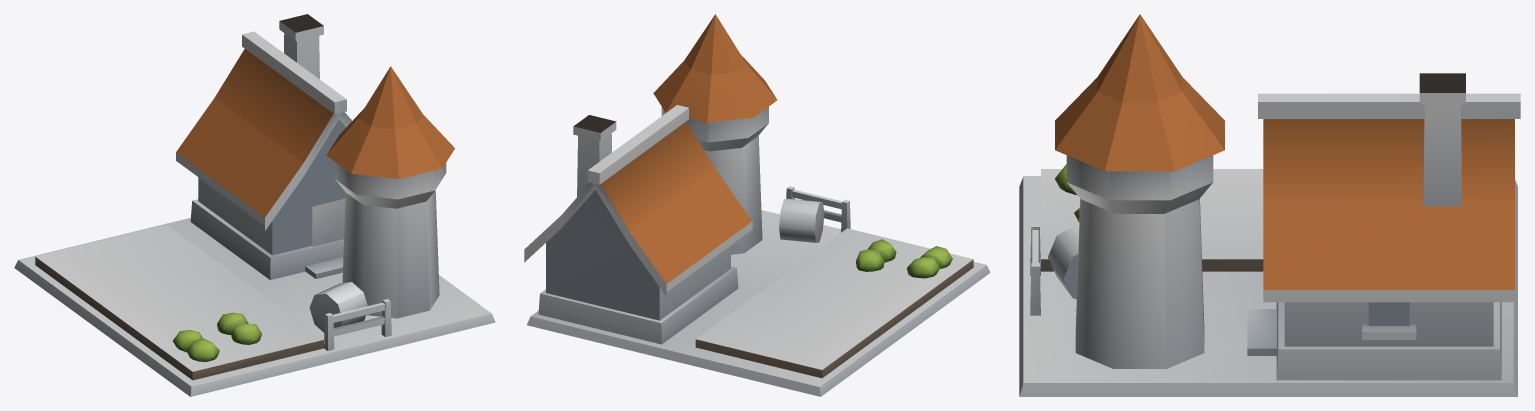
File: farm_t3.glb
3 renders of one model, left to right at view 1: azimuth 30°, elevation 25°; view 2: azimuth 150°, elevation 25°; view 3: azimuth 270°, elevation 25°, orthographic. The views are drawn at different scales.
Visible parts, largest first — view 1: farm_t3; view 2: farm_t3; view 3: farm_t3.
Part boxes in pixels (x1,y1,x2,y2): farm_t3: (14, 14, 495, 396); farm_t3: (524, 14, 990, 396); farm_t3: (1019, 14, 1520, 396).
Size of the model in its own units: 1.88 by 1.4 by 1.87.
